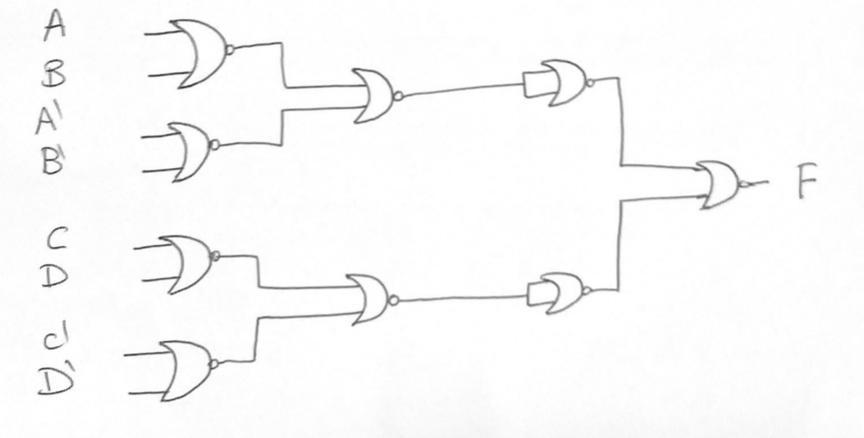NOR: (680, 145, 765, 228), (150, 223, 235, 304), (163, 9, 238, 95), (345, 51, 417, 138), (155, 324, 224, 411), (157, 113, 228, 193), (336, 257, 405, 335), (537, 50, 605, 123), (534, 255, 597, 324)
